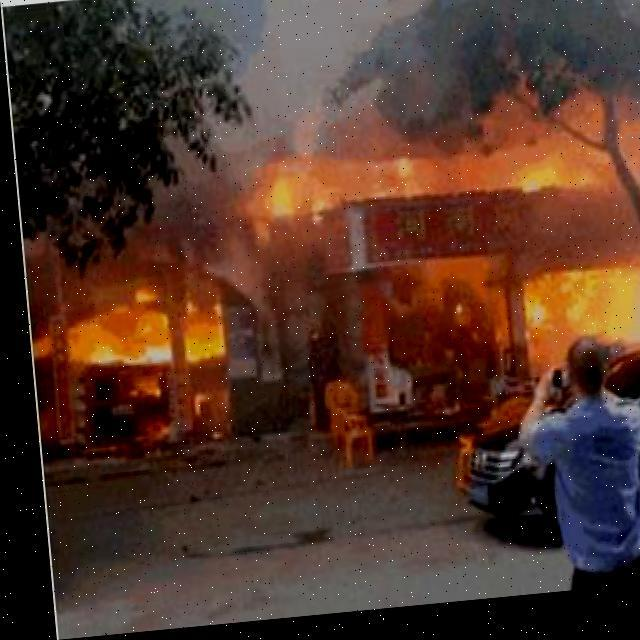Fire: (35, 262, 227, 390), (507, 259, 639, 365), (250, 162, 312, 233), (508, 158, 581, 204)
